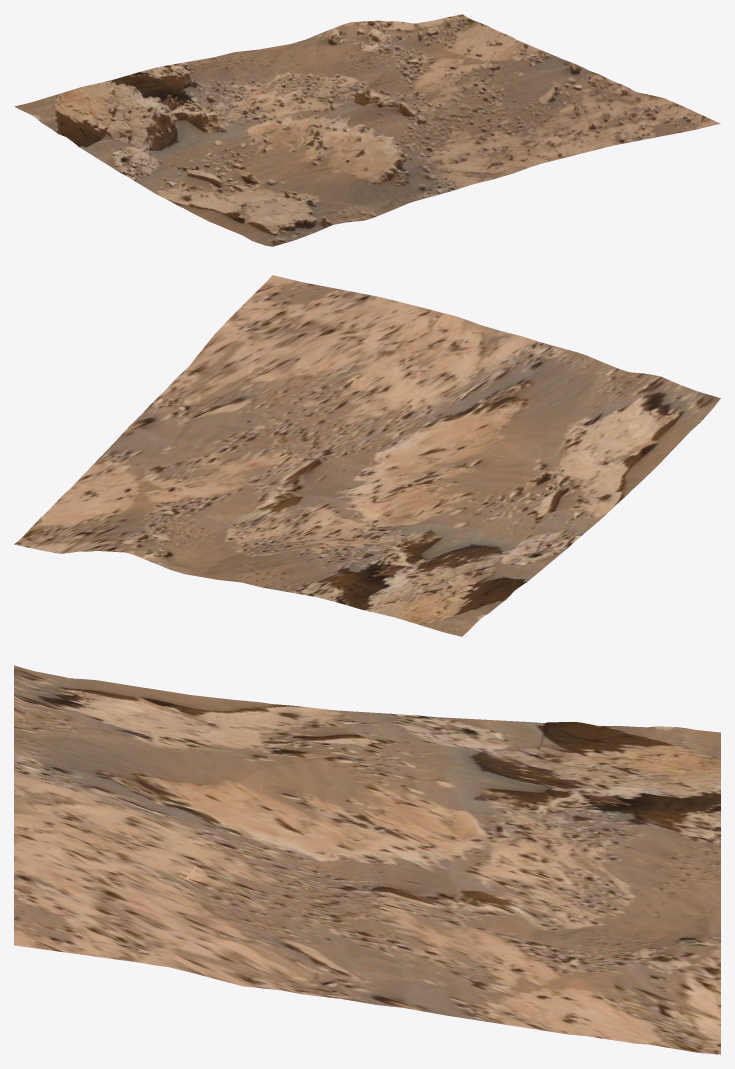
3 views of the same model, one above another, from view 1: azimuth 30°, elevation 25°; view 2: azimuth 150°, elevation 25°; view 3: azimuth 270°, elevation 25° (orthographic). The views are drawn at different scales.
Bounding box in the file's own units: 1.04 × 0.1875 × 1.04.
Materials: 2 (2 with a texture image).
